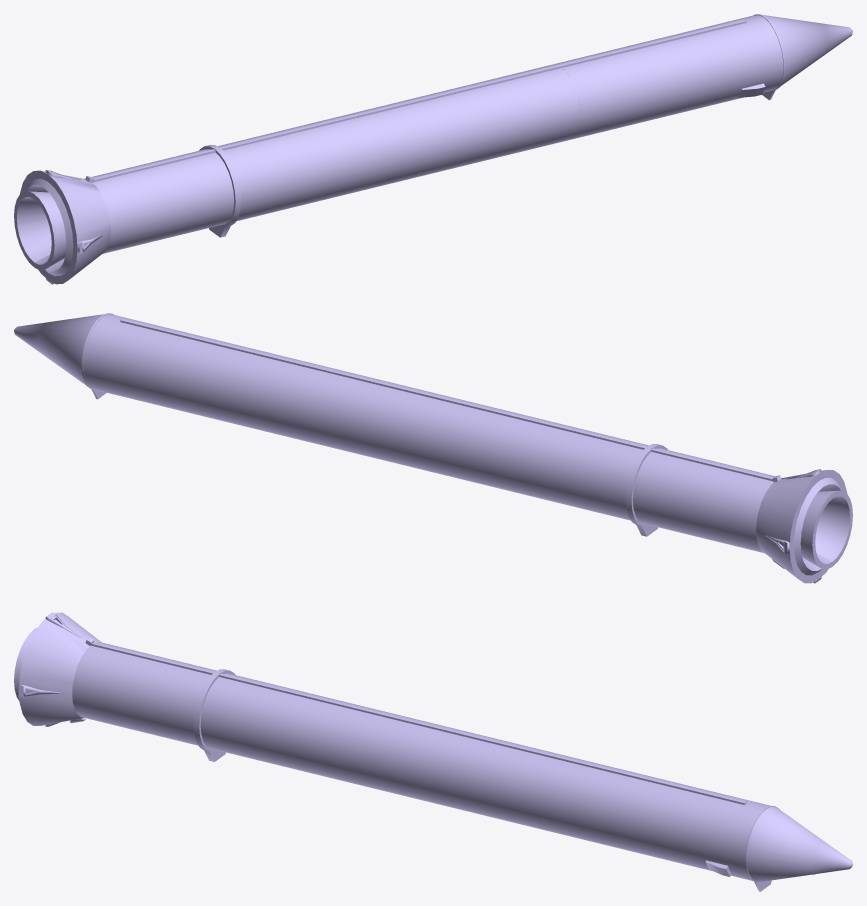
The model's file is SolidRocketBooster.fbx.
3 renders of one model, top to bottom at view 1: azimuth 30°, elevation 25°; view 2: azimuth 150°, elevation 25°; view 3: azimuth 330°, elevation 25°, orthographic.
Visible parts, largest first — view 1: SolidRocketBooster_50; view 2: SolidRocketBooster_50; view 3: SolidRocketBooster_50.
Part boxes in pixels (box(x1,y1,x2,y2)): SolidRocketBooster_50: box(14, 14, 852, 284); SolidRocketBooster_50: box(14, 313, 852, 583); SolidRocketBooster_50: box(14, 612, 852, 891).
Bounding box in the file's own units: 4524 × 583 × 583.
